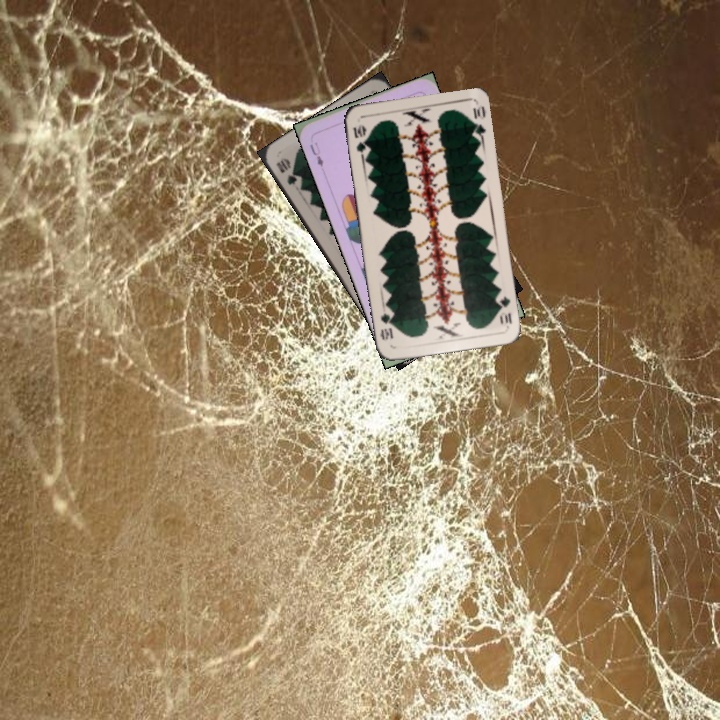EU: (305, 138, 326, 169)
G10: (272, 153, 300, 188), (349, 120, 369, 159), (493, 292, 514, 329)
